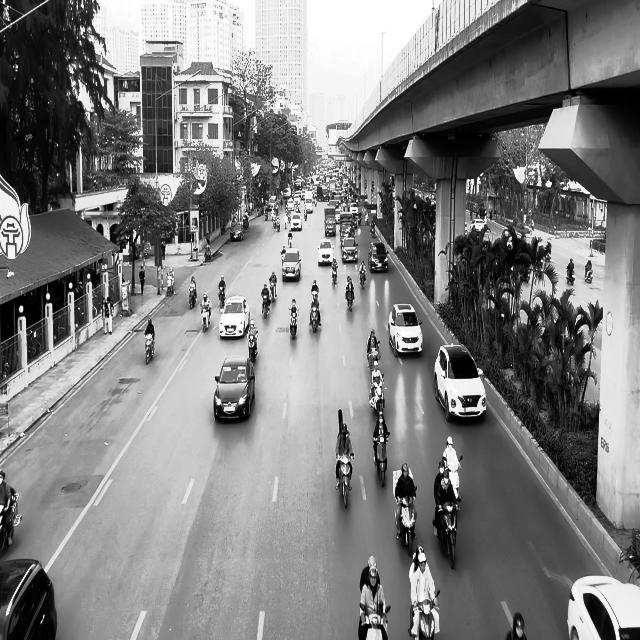car: (566, 574, 640, 640), (0, 557, 57, 639), (434, 343, 486, 422), (213, 356, 256, 422), (388, 303, 423, 356), (219, 295, 249, 339), (282, 248, 301, 282), (368, 241, 388, 273), (317, 238, 334, 266), (341, 237, 358, 263), (471, 218, 486, 237), (230, 222, 243, 241)
motorbike: (436, 502, 460, 569), (408, 590, 440, 640), (396, 487, 417, 557), (0, 486, 22, 548), (359, 602, 390, 639), (336, 453, 354, 508), (373, 431, 389, 487), (369, 377, 385, 414), (248, 334, 258, 362), (145, 334, 154, 364), (310, 304, 319, 332), (201, 306, 210, 332), (290, 312, 298, 339), (345, 287, 354, 311), (262, 293, 270, 317), (188, 286, 196, 309), (584, 264, 593, 282), (566, 267, 575, 285), (218, 287, 225, 310), (331, 262, 338, 284), (359, 268, 366, 288)
